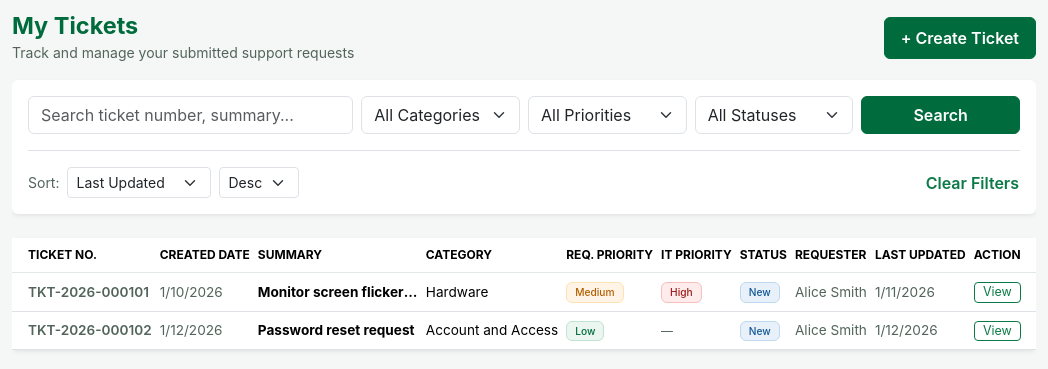
Test: MyTickets Screen › resets search and filters when "Clear Filters" is clicked
This screenshot has width=1048, height=369.
Type "flickering" into the field with placeholder "Search ticket number, summary..." at (191, 115), box [28,96,353,134]
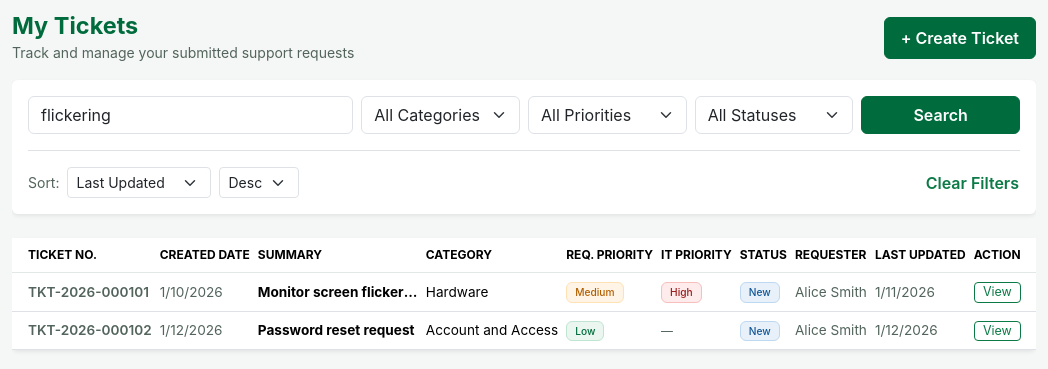
Click the button "Clear Filters" at (972, 183), box [925,170,1020,196]
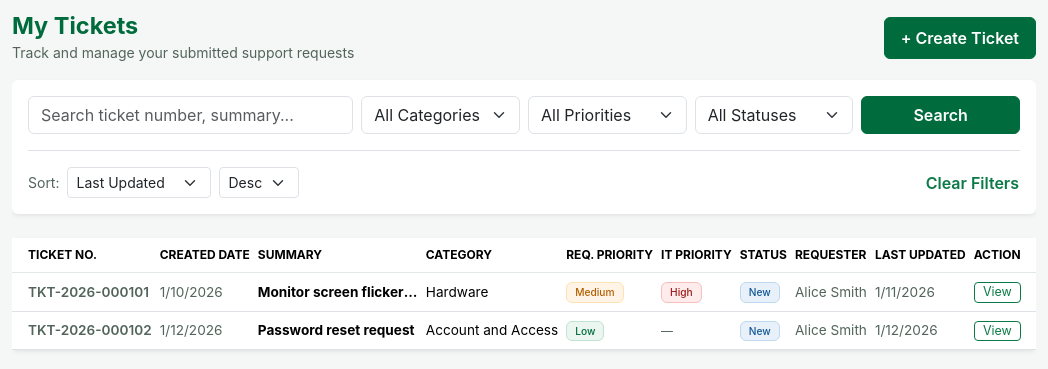
Result: the field with placeholder "Search ticket number, summary..." is empty at [28,96,353,134]
